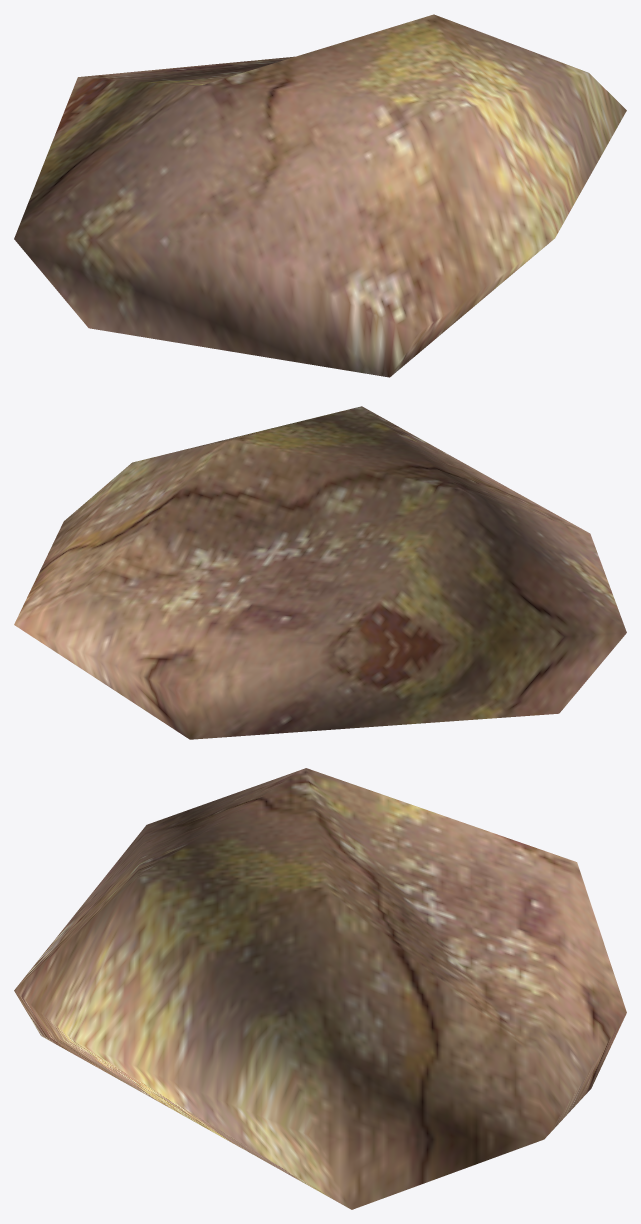
Rendered from rock5.fbx.
The picture shows the model from 3 angles, top to bottom: view 1: azimuth 30°, elevation 25°; view 2: azimuth 150°, elevation 25°; view 3: azimuth 270°, elevation 25°; orthographic projection. The views are drawn at different scales.
Parts seen in each view (by area): view 1: rock5; view 2: rock5; view 3: rock5.
Part boxes in pixels (bbox=[...]): rock5: bbox=[14, 14, 626, 377]; rock5: bbox=[14, 406, 626, 739]; rock5: bbox=[14, 768, 626, 1209].
Size of the model in its own units: 7809 by 2675 by 6275.
